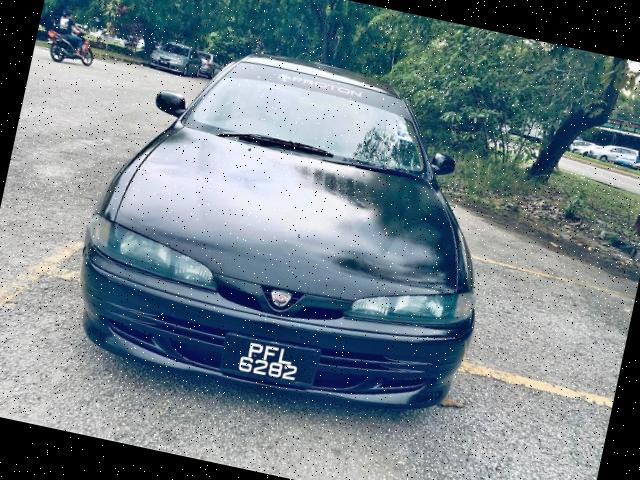License_Plate: (216, 326, 326, 400)
